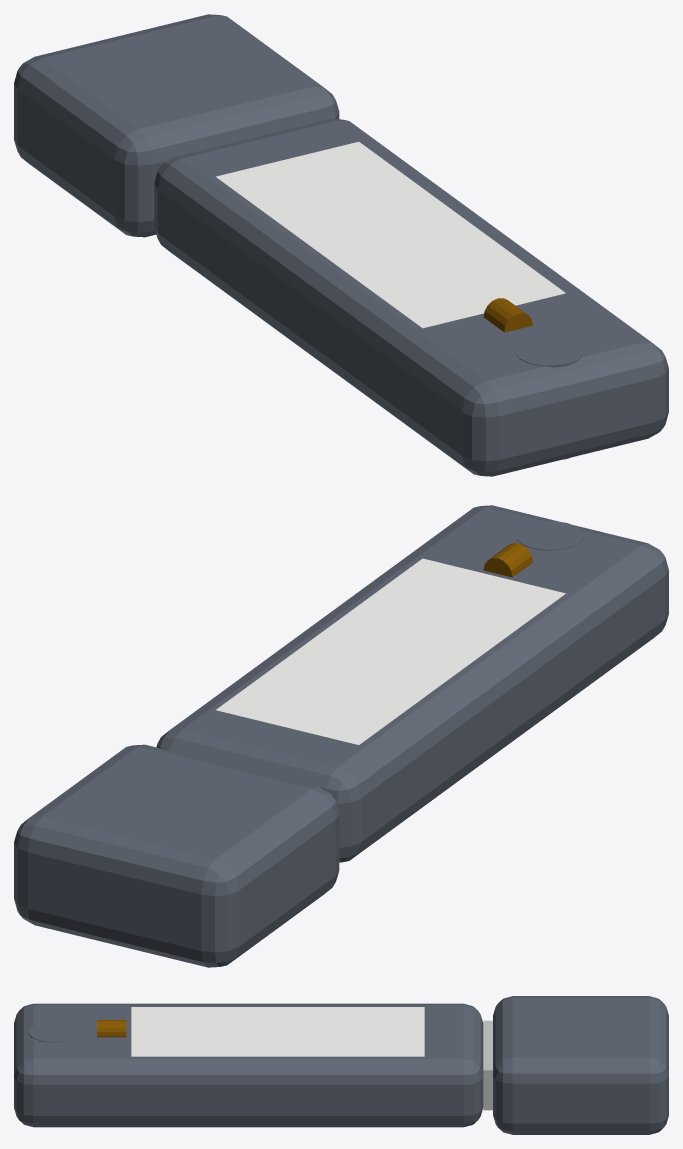
File: usb_flash.glb
3 renders of one model, top to bottom at view 1: azimuth 30°, elevation 25°; view 2: azimuth 150°, elevation 25°; view 3: azimuth 270°, elevation 25°, orthographic. The views are drawn at different scales.
Parts seen in each view (by area): view 1: usb_shell, cap, label, led_act; view 2: usb_shell, cap, label, led_act; view 3: usb_shell, cap, label, led_act.
Boxes of the visible parts, x1=… form: usb_shell: x1=154, y1=119, x2=668, y2=476; cap: x1=14, y1=14, x2=339, y2=237; label: x1=216, y1=141, x2=565, y2=328; led_act: x1=483, y1=298, x2=532, y2=332; usb_shell: x1=156, y1=505, x2=668, y2=862; cap: x1=14, y1=744, x2=339, y2=967; label: x1=216, y1=558, x2=565, y2=744; led_act: x1=483, y1=543, x2=532, y2=577; usb_shell: x1=14, y1=1003, x2=492, y2=1127; cap: x1=493, y1=996, x2=668, y2=1134; label: x1=131, y1=1007, x2=424, y2=1056; led_act: x1=97, y1=1020, x2=126, y2=1037.
Size of the model in its own units: 0.0185 by 0.00925 by 0.067.
